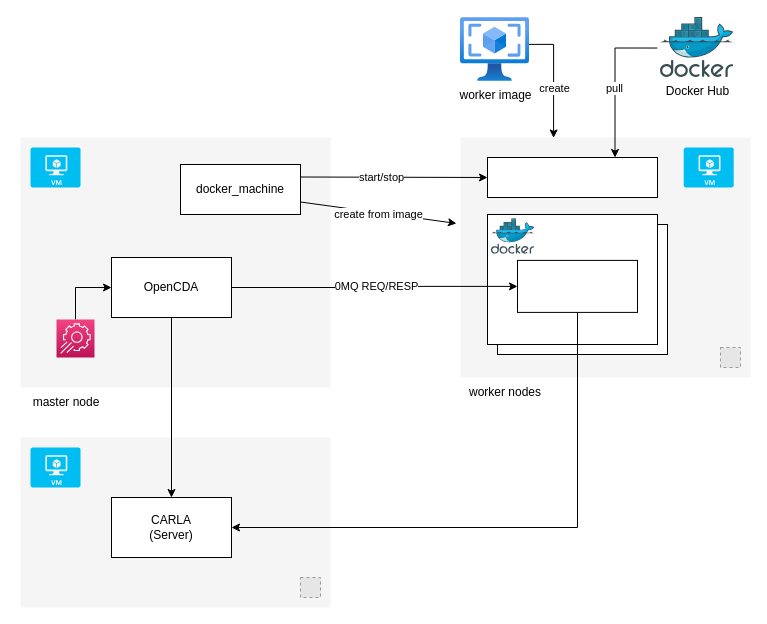
Image size: 767x624. Some labels were removed from this diagram. Grey dashed boxes stand in for pictures. Each missing label, with the centre of its shape:
deployment.yml: point 75,338
Docker runtime: point 572,177
sim_vehicle.py (server): point 577,285
